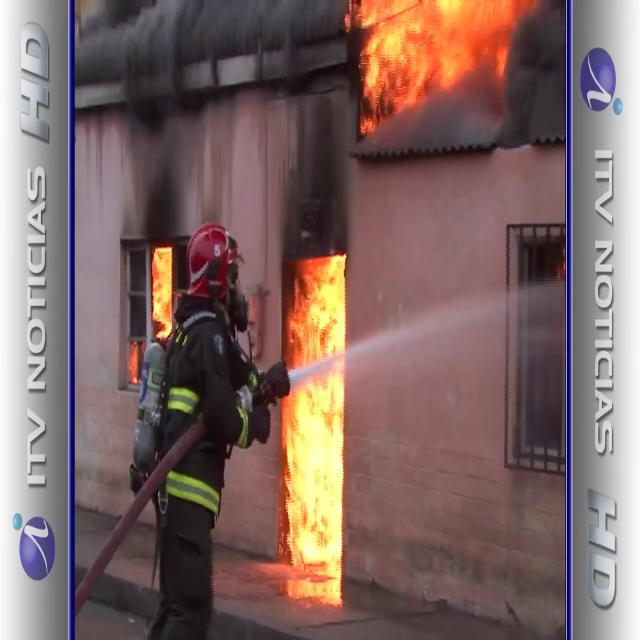Fire: (278, 245, 354, 599), (346, 0, 536, 116), (149, 241, 177, 339)
